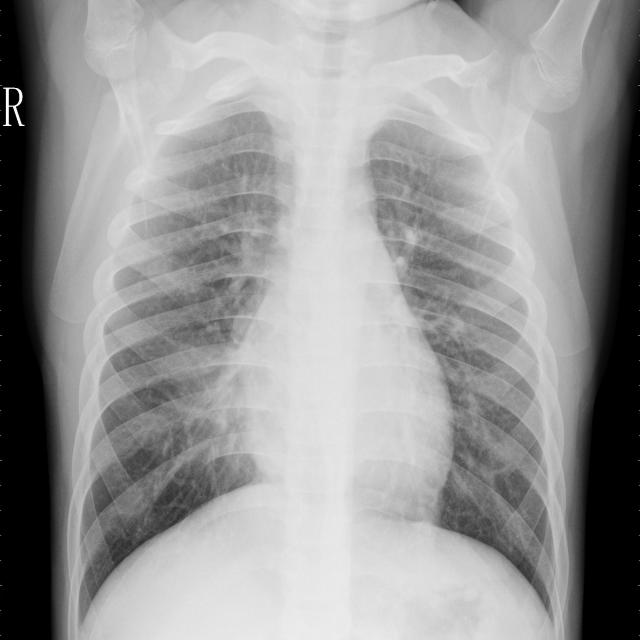low-pneumonia: (164, 336, 245, 472)
